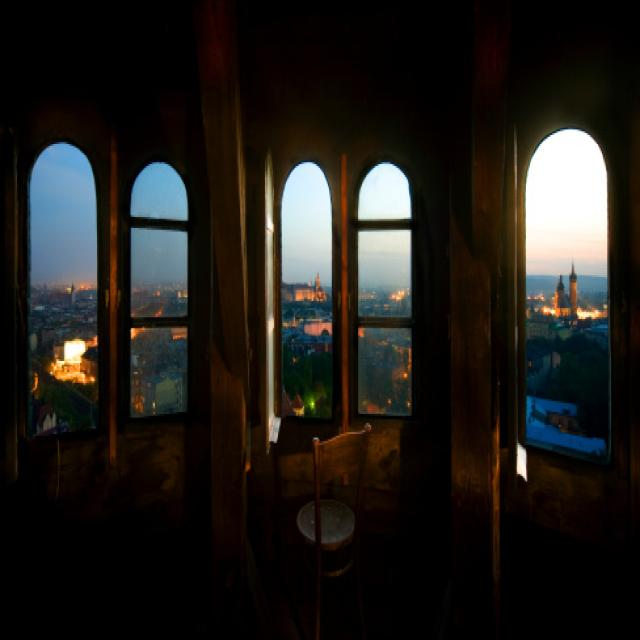chair: (275, 403, 371, 638)
